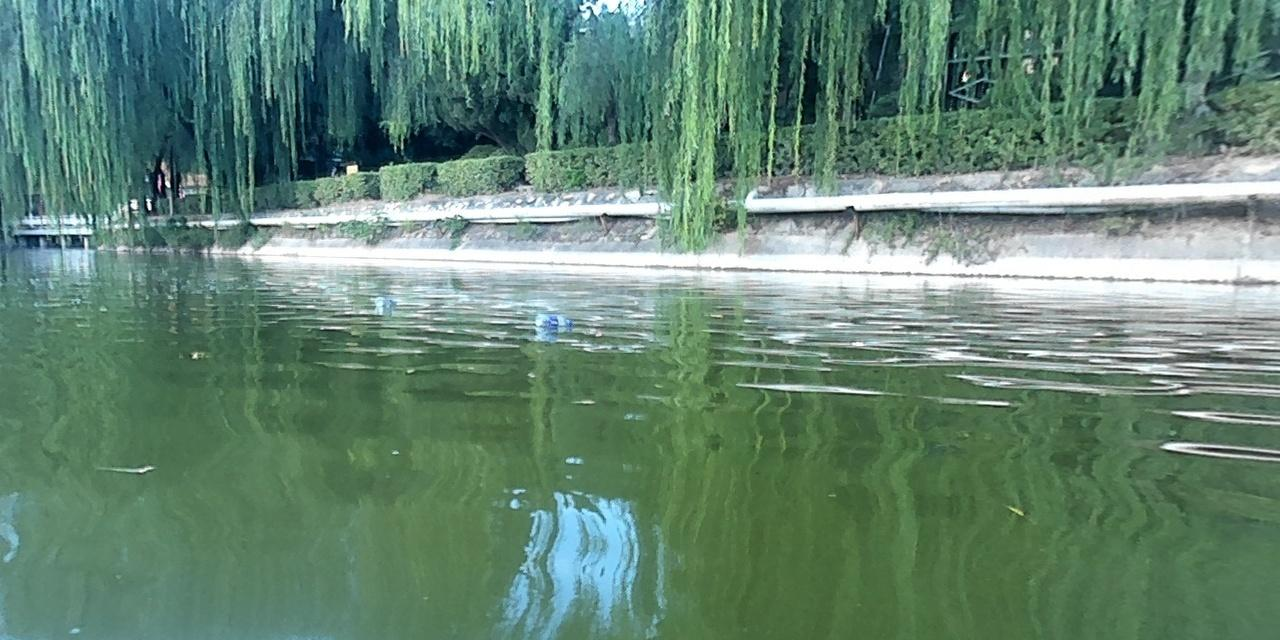bottle: (532, 309, 575, 329), (370, 293, 400, 309)
